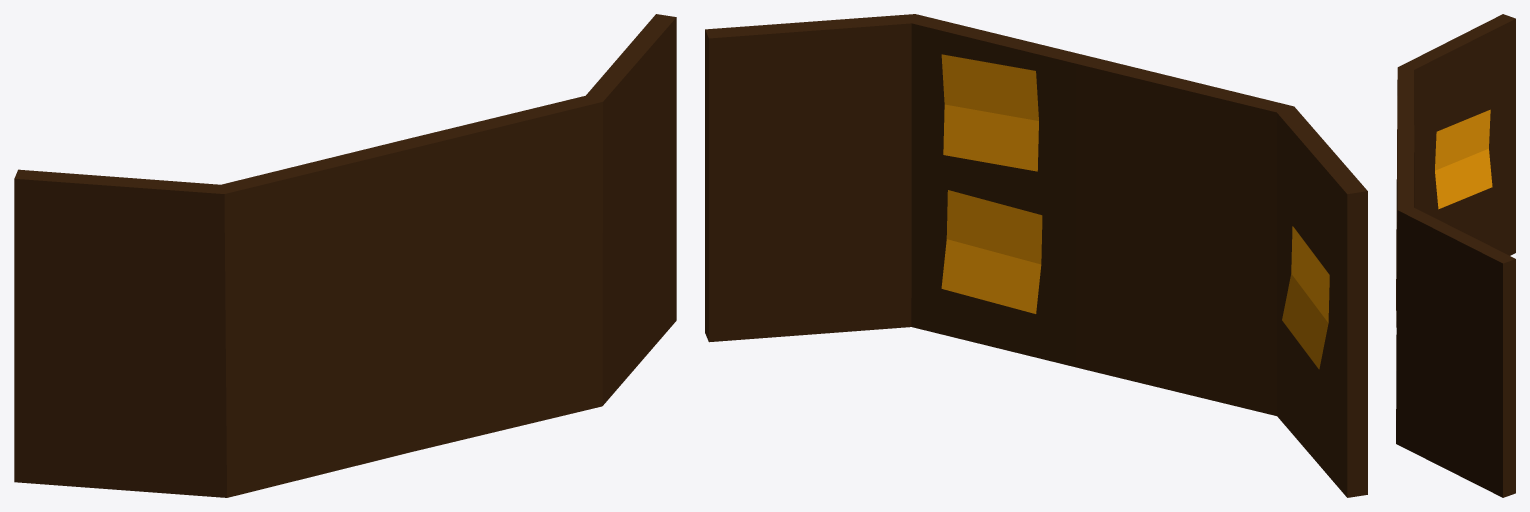
Rendered from screen.obj.
3 views of the same model, side by side, from view 1: azimuth 30°, elevation 25°; view 2: azimuth 150°, elevation 25°; view 3: azimuth 270°, elevation 25° (orthographic). The views are drawn at different scales.
Visible parts, largest first — view 1: Plane.002; view 2: Plane.002; view 3: Plane.002.
Boxes of the visible parts, x1=… form: Plane.002: x1=14, y1=14, x2=676, y2=497; Plane.002: x1=705, y1=14, x2=1367, y2=497; Plane.002: x1=1396, y1=14, x2=1515, y2=497.
Bounding box in the file's own units: 0.5252 × 0.23 × 0.1067.
